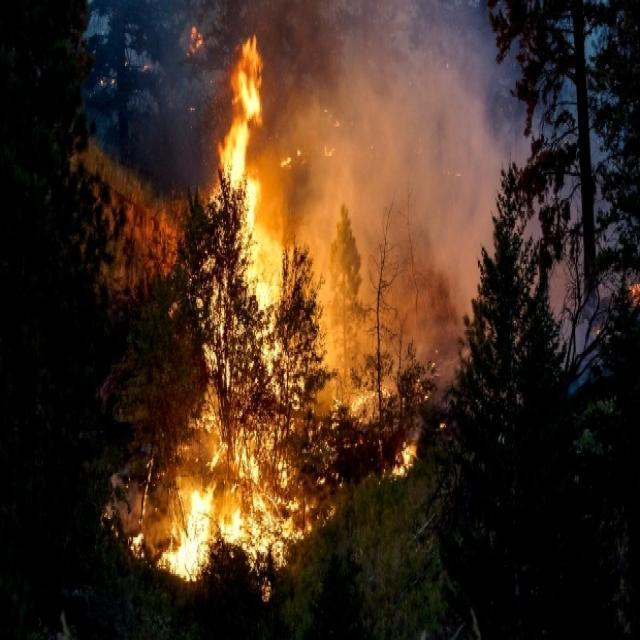Fire: (121, 27, 426, 607)
Smoke: (292, 12, 531, 438), (318, 0, 490, 380), (444, 75, 616, 422)
